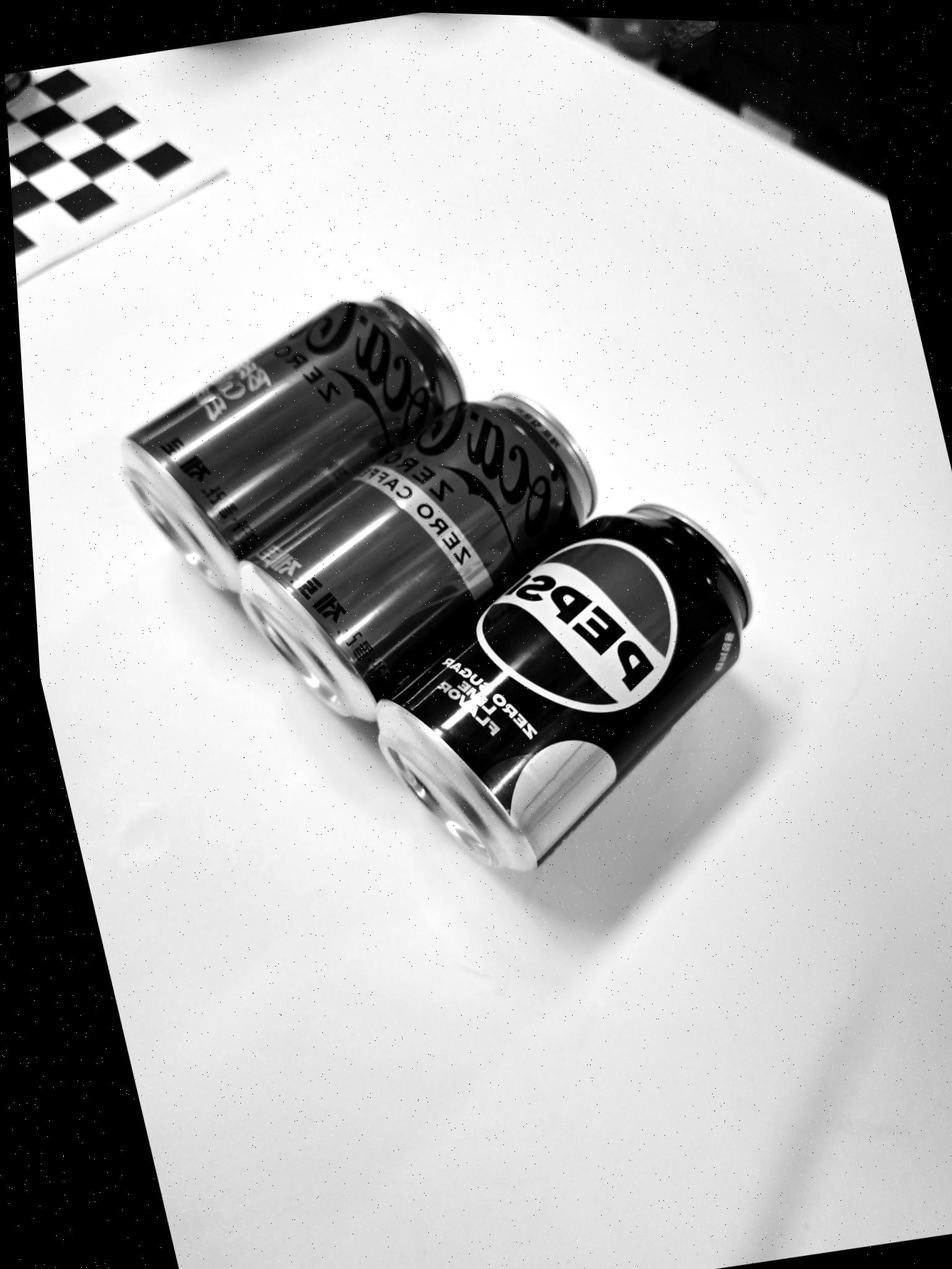can_coke_zero: (236, 386, 600, 725), (120, 289, 466, 590)
can_pepsi_zero: (373, 498, 759, 870)
